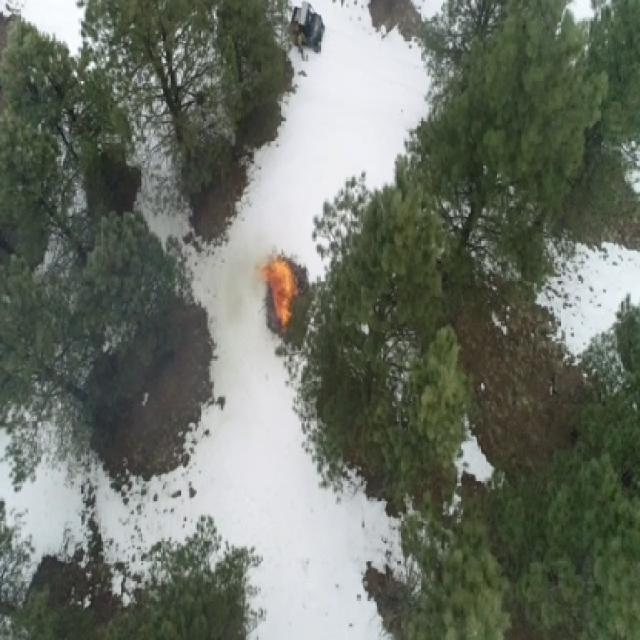Fire: (258, 252, 300, 331)
